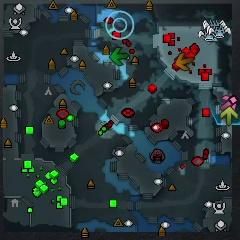Other: (106, 11, 135, 40)
x1: (218, 95, 239, 110)
x2: (220, 106, 239, 126)
x4: (110, 46, 128, 66)
x5: (175, 53, 194, 72)
